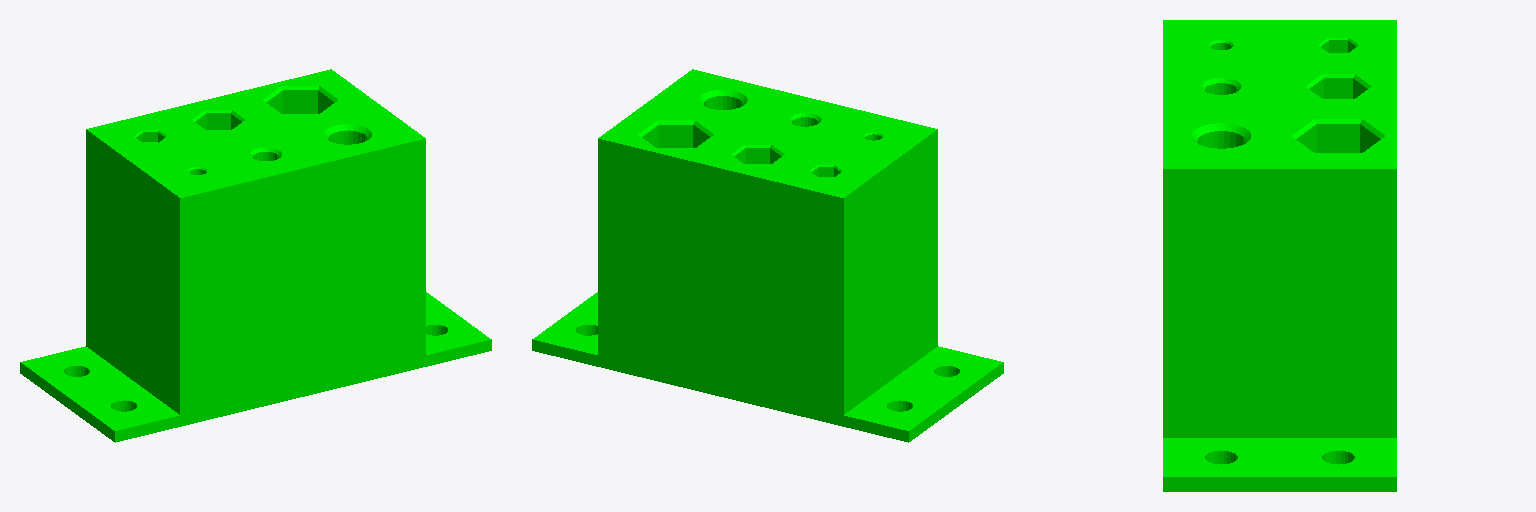
robot.urdf — jig.urdf:
<?xml version="1.0" ?>
<robot name="jig.urdf">
  <link concave="yes" name="baseLink">
    <contact>
      <restitution value="0.0" />
      <lateral_friction value="1.0"/>
      <rolling_friction value="0.0"/>
      <contact_cfm value="0.0"/>
      <contact_erp value="1.0"/>
    </contact>

    <inertial>
      <origin rpy="0 0 0" xyz="0 0 0 "/>
      <mass value="1.0"/>
      <inertia ixx="1" ixy="0" ixz="0" iyy="1" iyz="0" izz="1"/>
      <!-- <inertia ixx="1" ixy="0" ixz="0" iyy="1" iyz="0" izz="1"/> -->
    </inertial>

    <visual>
      <origin rpy="0 0 0" xyz="0 0 0"/>
      <geometry>
        <mesh filename="bolt/blender_jig_005.dae" scale="1 1 1"/>
      </geometry>
       <material name="green">
        <color rgba="0 1 0 1"/>
      </material>
    </visual>

    <!-- <collision>
      <origin rpy="0 0 0" xyz="0 0 0"/>
      <geometry>
	 	<mesh filename="bolt/blender_jig_005.dae" scale="1 1 1"/>
      </geometry>
    </collision> -->
  </link>
</robot>

--- Render facts (derived) ---
Views: 3 orthographic renders of the robot side by side, from view 1: azimuth 30°, elevation 25°; view 2: azimuth 150°, elevation 25°; view 3: azimuth 270°, elevation 25°.
Robot: jig.urdf — 1 links, 0 joints (none); root link baseLink; default pose: all joints at 0.
Links seen in each view (by area): view 1: baseLink; view 2: baseLink; view 3: baseLink.
Boxes of the visible links, x1=… form: baseLink: x1=20, y1=69, x2=491, y2=442; baseLink: x1=532, y1=69, x2=1003, y2=442; baseLink: x1=1163, y1=20, x2=1396, y2=491.
Bounding box of the posed robot: 0.69 × 0.3 × 0.4 m (x, y, z).
Meshes: 1 distinct files referenced, 1 mesh visuals loaded (1 Collada DAE).